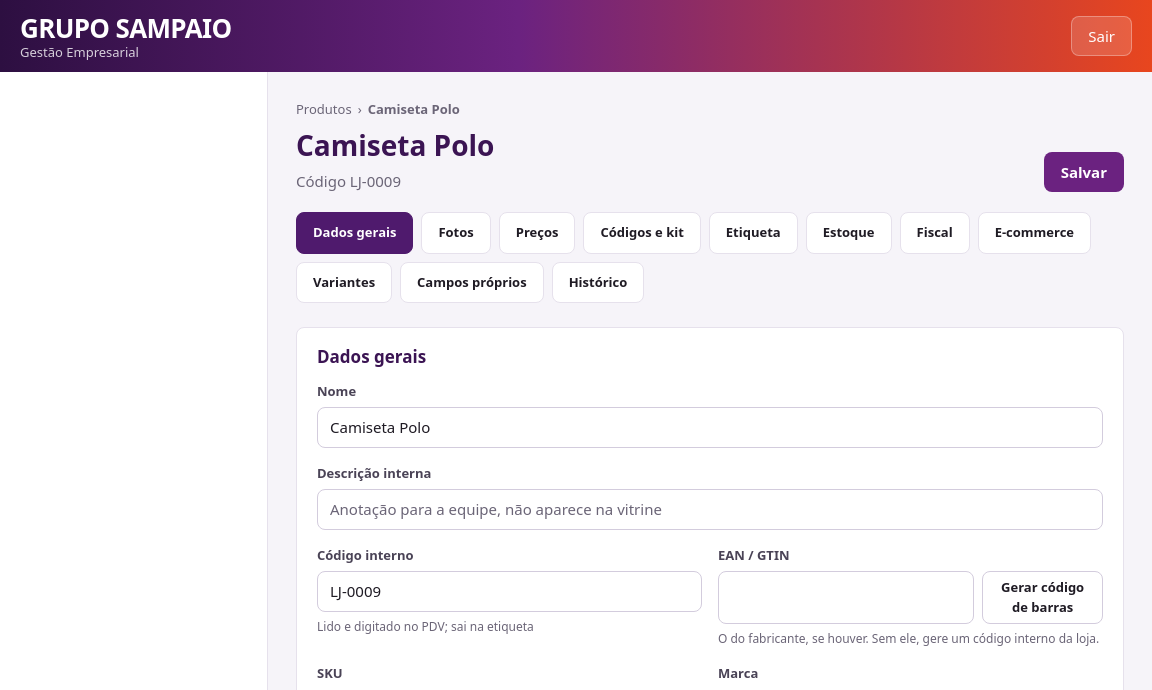
it: o serviço de balcão (GAP-V02) › desmarcado, saldo e mínimo SOMEM — eles não querem dizer nada num serviço
Expected: the field showing "Camiseta Polo" is shown, 317,407 -> 1103,448
What coordinates should you click on to do the following:
click the tab "Estoque"
I would click on:
 (849, 233)
Its box is 806,212 -> 892,254.
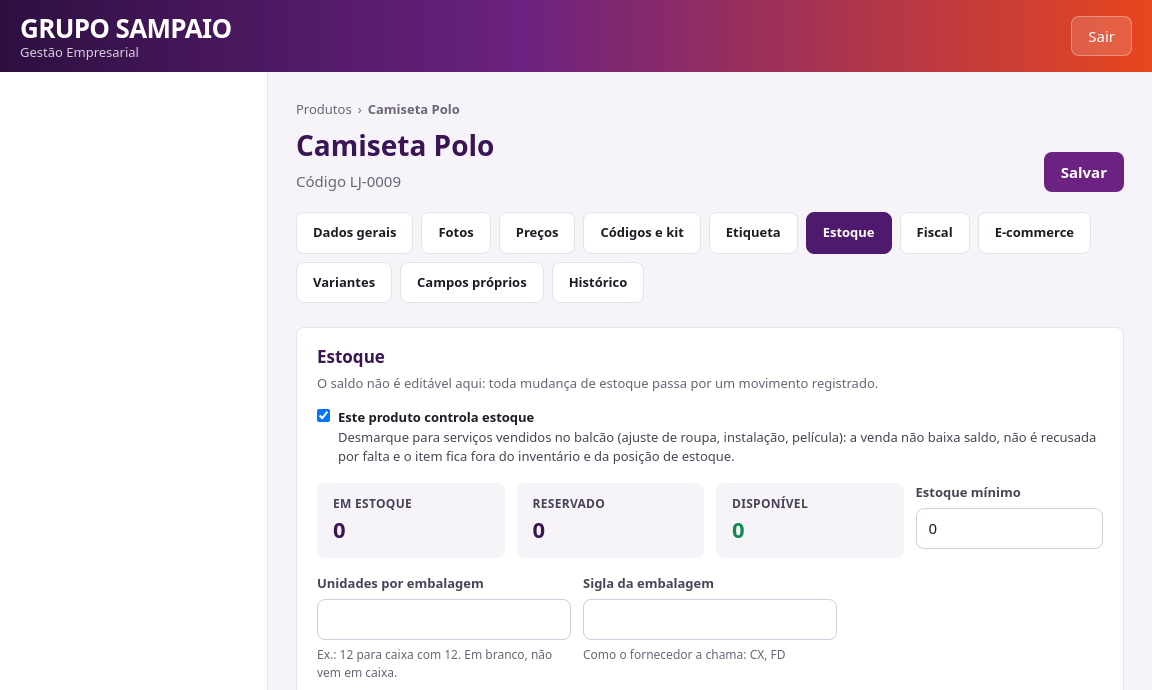
Now the text "Em estoque" is shown, box 333,494 -> 412,512
What coordinates should you click on to do the following:
click the checkbox labelled "Este produto controla estoque"
I would click on:
 (324, 416)
Its box is 317,409 -> 330,422.
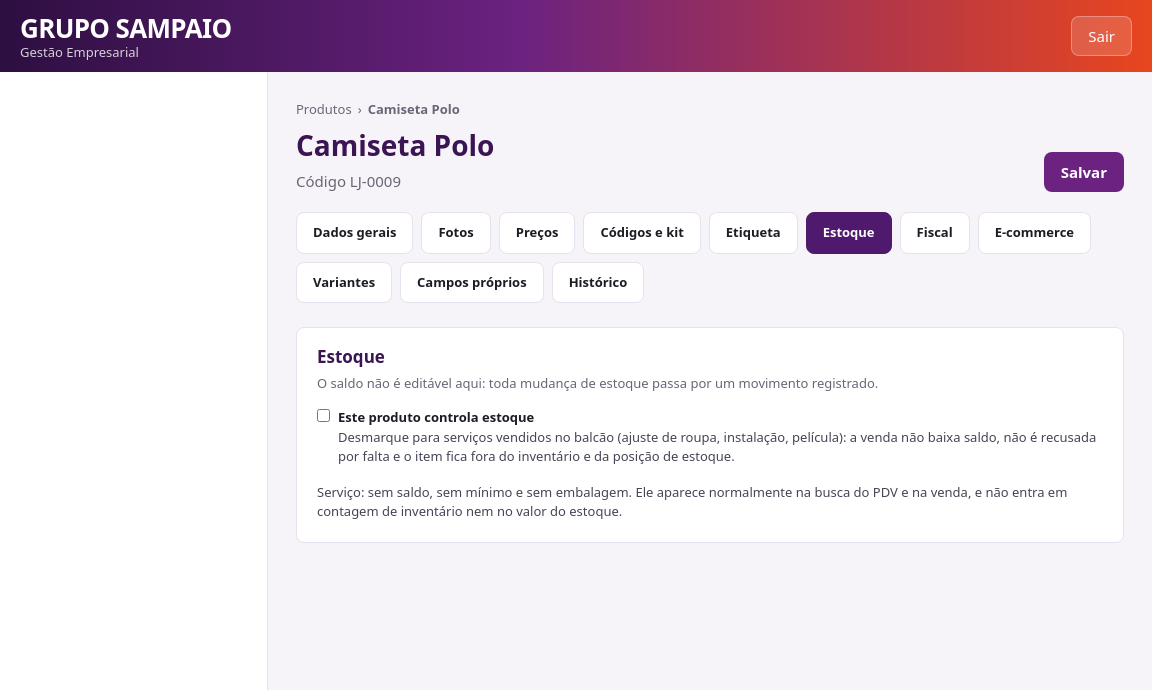
Now the text "Em estoque" is gone
Now the text "Serviço: sem saldo, sem mínimo" is shown, box 317,482 -> 1067,520
